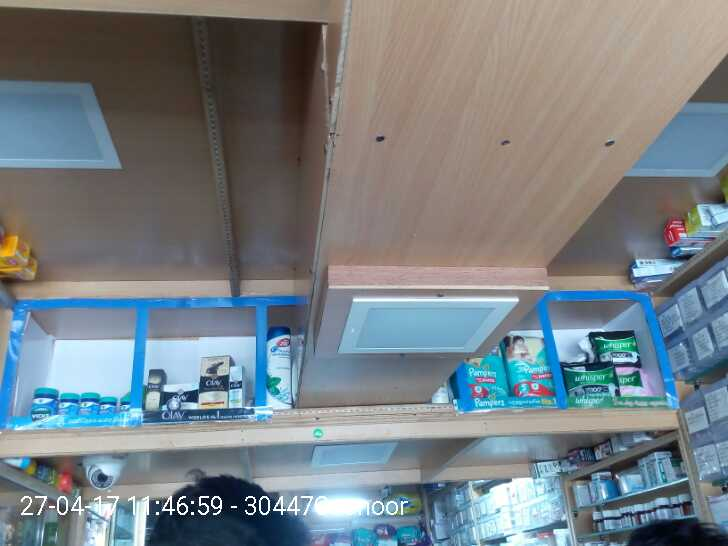beauty: (265, 320, 297, 409), (195, 352, 229, 417), (136, 364, 164, 417), (224, 360, 245, 405)
pharmacy: (499, 341, 553, 400), (562, 363, 617, 399), (584, 325, 643, 344), (615, 363, 648, 395), (29, 387, 55, 415), (97, 393, 118, 420), (55, 391, 75, 415), (81, 389, 97, 417)
